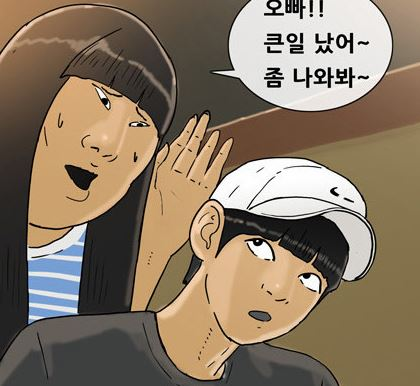hat: (209, 156, 376, 285)
